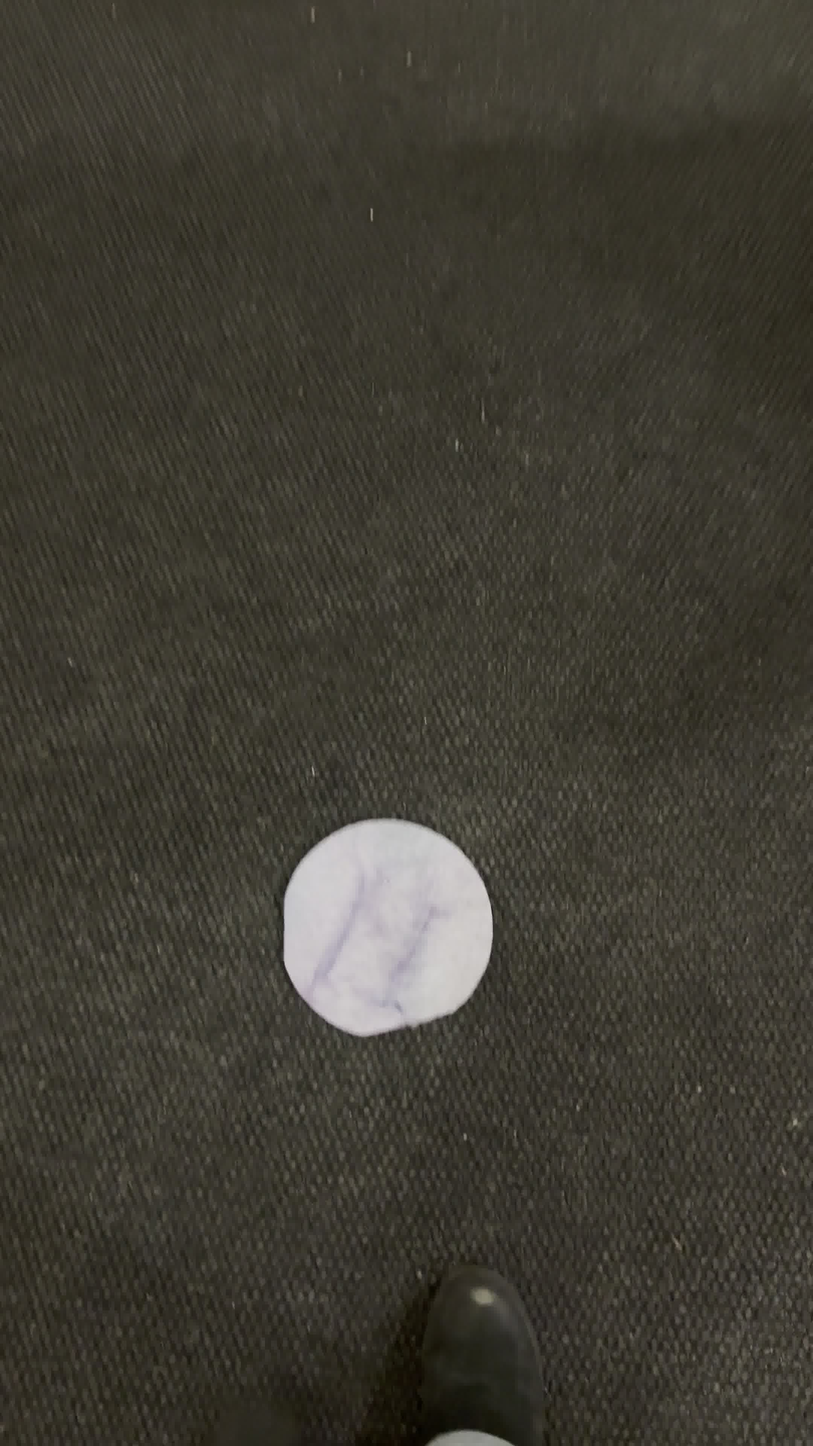Target: (278, 814, 495, 1042)
